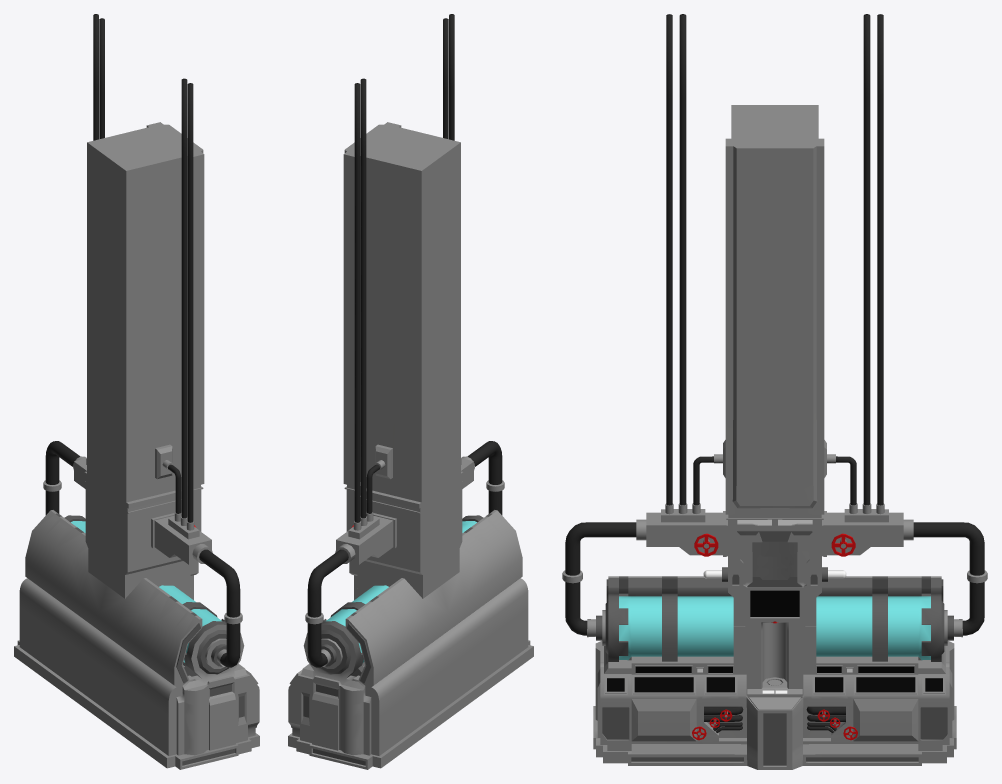
Rendered from Generator.fbx.
3 views of the same model, side by side, from view 1: azimuth 30°, elevation 25°; view 2: azimuth 150°, elevation 25°; view 3: azimuth 270°, elevation 25° (orthographic). The views are drawn at different scales.
Visible parts, largest first — view 1: Generator; view 2: Generator; view 3: Generator.
Part boxes in pixels (bbox=[...]): Generator: bbox=[14, 14, 259, 769]; Generator: bbox=[288, 14, 533, 769]; Generator: bbox=[562, 14, 987, 769].
Size of the model in its own units: 150 by 887 by 470.
